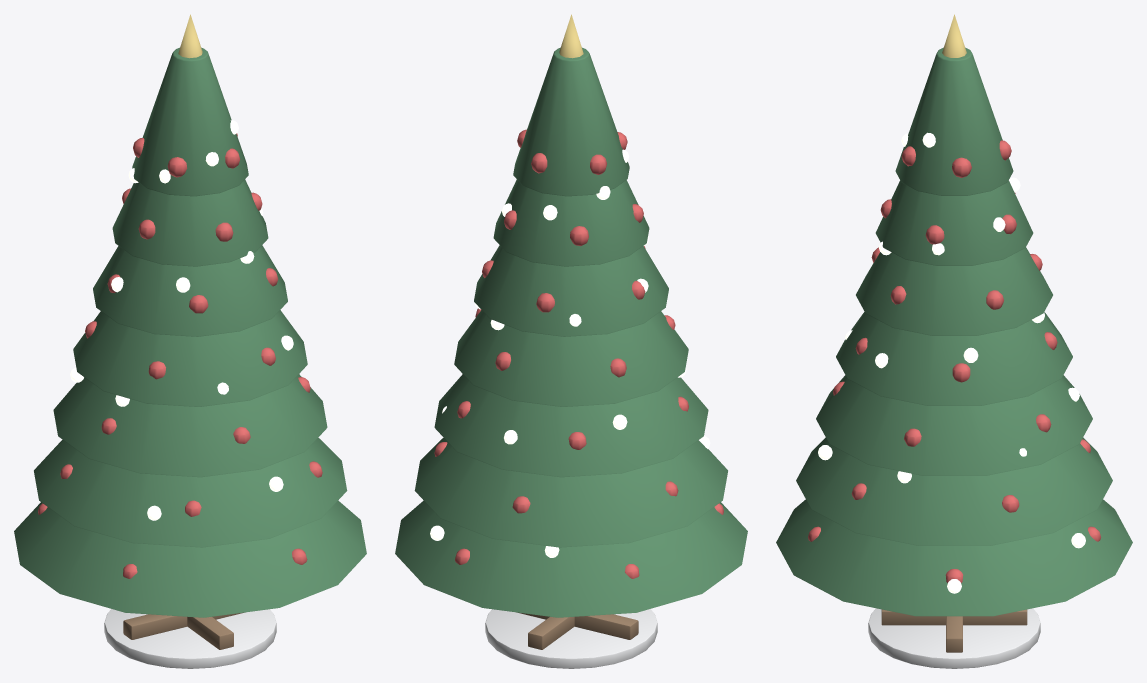
The model's file is th29_christbaum.glb.
The picture shows the model from 3 angles, left to right: view 1: azimuth 30°, elevation 25°; view 2: azimuth 150°, elevation 25°; view 3: azimuth 270°, elevation 25°; orthographic projection.
Visible parts, largest first — view 1: Cone, Cone.001, Cone.002, Cone.003, Cone.004, Cone.006, Cone.005, Cylinder, Cube, Cube.001, Cone.007; view 2: Cone, Cone.001, Cone.002, Cone.003, Cone.004, Cone.006, Cone.005, Cylinder, Cube, Cube.001, Cone.007; view 3: Cone, Cone.001, Cone.002, Cone.003, Cone.004, Cone.006, Cone.005, Cylinder, Cube.001, Cube, Cone.007.
Boxes of the visible parts, left/top/right/bottom form: Cone: left=14, top=500, right=366, bottom=617; Cone.001: left=34, top=437, right=347, bottom=547; Cone.002: left=53, top=374, right=327, bottom=477; Cone.003: left=73, top=310, right=307, bottom=406; Cone.004: left=93, top=245, right=287, bottom=336; Cone.006: left=132, top=47, right=248, bottom=196; Cone.005: left=112, top=179, right=268, bottom=266; Cylinder: left=104, top=609, right=276, bottom=668; Cube: left=123, top=612, right=245, bottom=639; Cube.001: left=187, top=617, right=233, bottom=649; Cone.007: left=178, top=14, right=202, bottom=58; Cone: left=395, top=500, right=747, bottom=617; Cone.001: left=414, top=437, right=727, bottom=547; Cone.002: left=434, top=374, right=708, bottom=477; Cone.003: left=454, top=310, right=688, bottom=406; Cone.004: left=474, top=245, right=668, bottom=336; Cone.006: left=513, top=47, right=629, bottom=196; Cone.005: left=493, top=179, right=649, bottom=266; Cylinder: left=485, top=609, right=657, bottom=668; Cube: left=516, top=612, right=638, bottom=639; Cube.001: left=528, top=617, right=574, bottom=649; Cone.007: left=559, top=14, right=583, bottom=58; Cone: left=776, top=499, right=1132, bottom=616; Cone.001: left=796, top=437, right=1112, bottom=545; Cone.002: left=816, top=375, right=1092, bottom=475; Cone.003: left=836, top=312, right=1072, bottom=405; Cone.004: left=856, top=247, right=1052, bottom=335; Cone.006: left=895, top=47, right=1013, bottom=195; Cone.005: left=875, top=180, right=1033, bottom=265; Cylinder: left=868, top=608, right=1040, bottom=668; Cube.001: left=881, top=609, right=1027, bottom=625; Cube: left=946, top=616, right=962, bottom=652; Cone.007: left=942, top=14, right=966, bottom=57.
Bounding box in the file's own units: 5.25 × 10.3 × 5.38.
